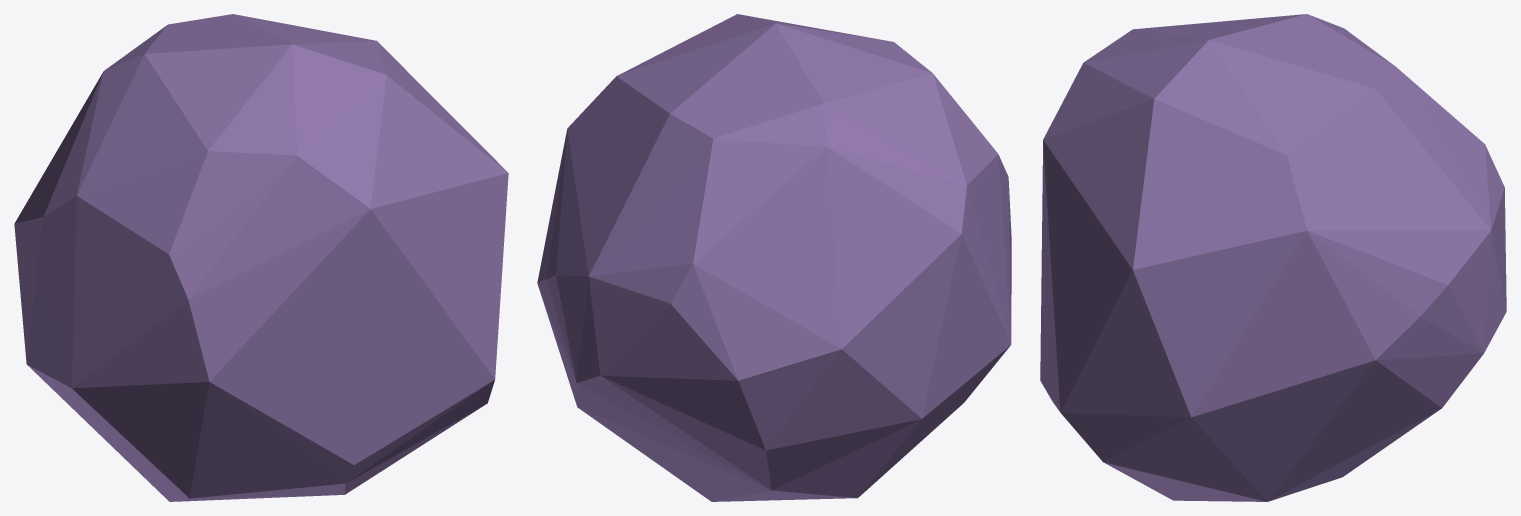
File: food_produce_apple_n01.glb
The picture shows the model from 3 angles, left to right: view 1: azimuth 30°, elevation 25°; view 2: azimuth 150°, elevation 25°; view 3: azimuth 270°, elevation 25°; orthographic projection. The views are drawn at different scales.
Parts seen in each view (by area): view 1: geometry_0; view 2: geometry_0; view 3: geometry_0.
Part boxes in pixels (x1=…): geometry_0: x1=14, y1=14, x2=508, y2=501; geometry_0: x1=537, y1=14, x2=1011, y2=501; geometry_0: x1=1040, y1=14, x2=1506, y2=501.
Size of the model in its own units: 0.4573 by 0.4537 by 0.4316.
